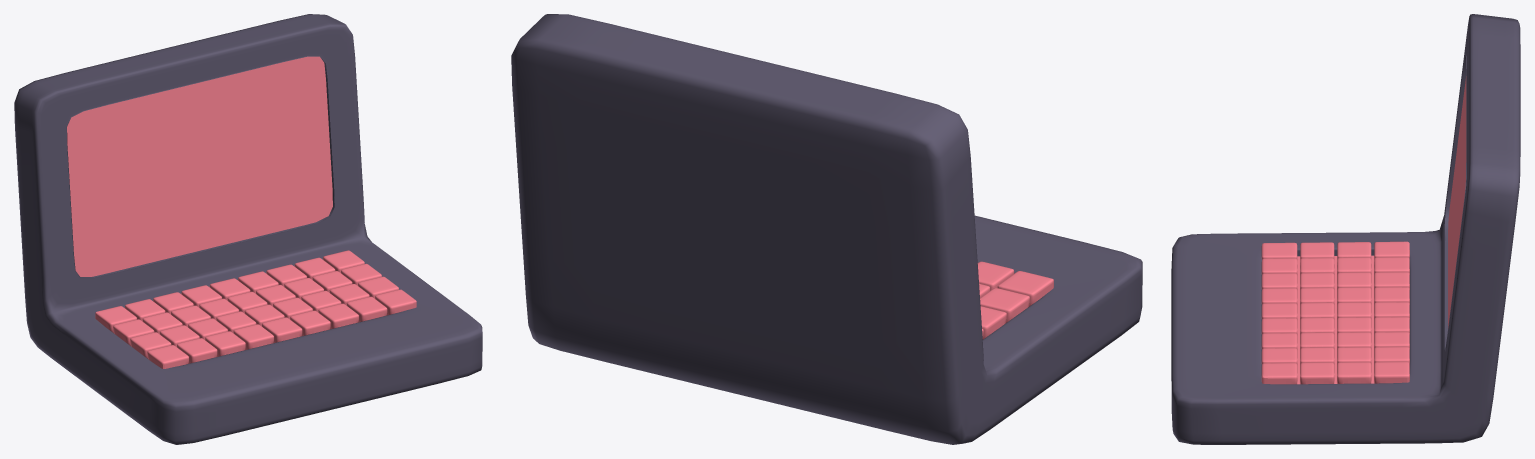
File: laptop_9.glb
3 views of the same model, side by side, from view 1: azimuth 30°, elevation 25°; view 2: azimuth 150°, elevation 25°; view 3: azimuth 270°, elevation 25° (orthographic). The views are drawn at different scales.
Visible parts, largest first — view 1: laptop, laptop.001; view 2: laptop; view 3: laptop, laptop.001.
Boxes of the visible parts, left/top/right/bottom form: laptop: left=14, top=14, right=482, bottom=444; laptop.001: left=67, top=56, right=332, bottom=276; laptop: left=511, top=14, right=1142, bottom=444; laptop: left=1171, top=14, right=1520, bottom=444; laptop.001: left=1448, top=76, right=1466, bottom=328.
Bounding box in the file's own units: 3.21 × 2.43 × 2.81.
